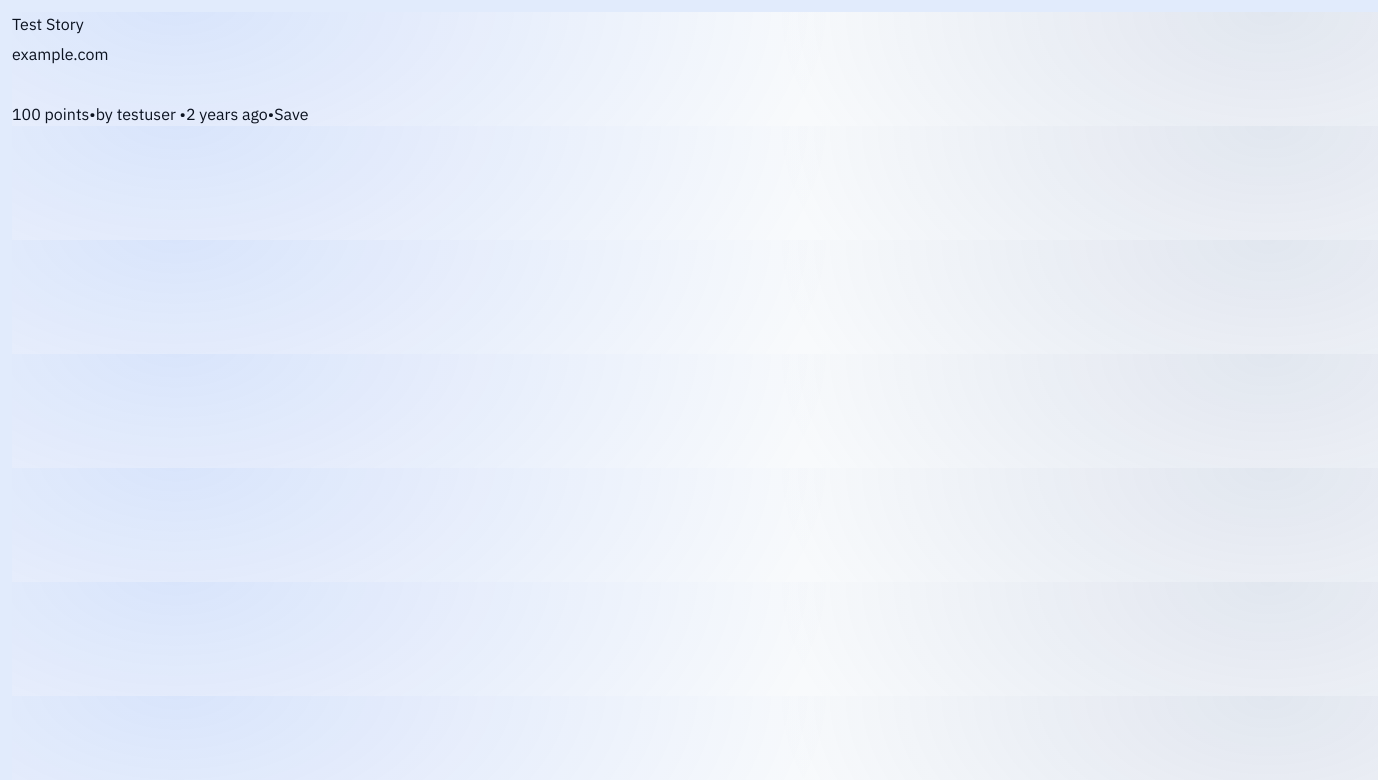
SidebarStorySummaryComponent › template rendering › should render and toggle save control for story summaries
The image size is (1378, 780).
Click the button with class "bookmark-btn". click: (291, 114)
box: [274,102,308,126]
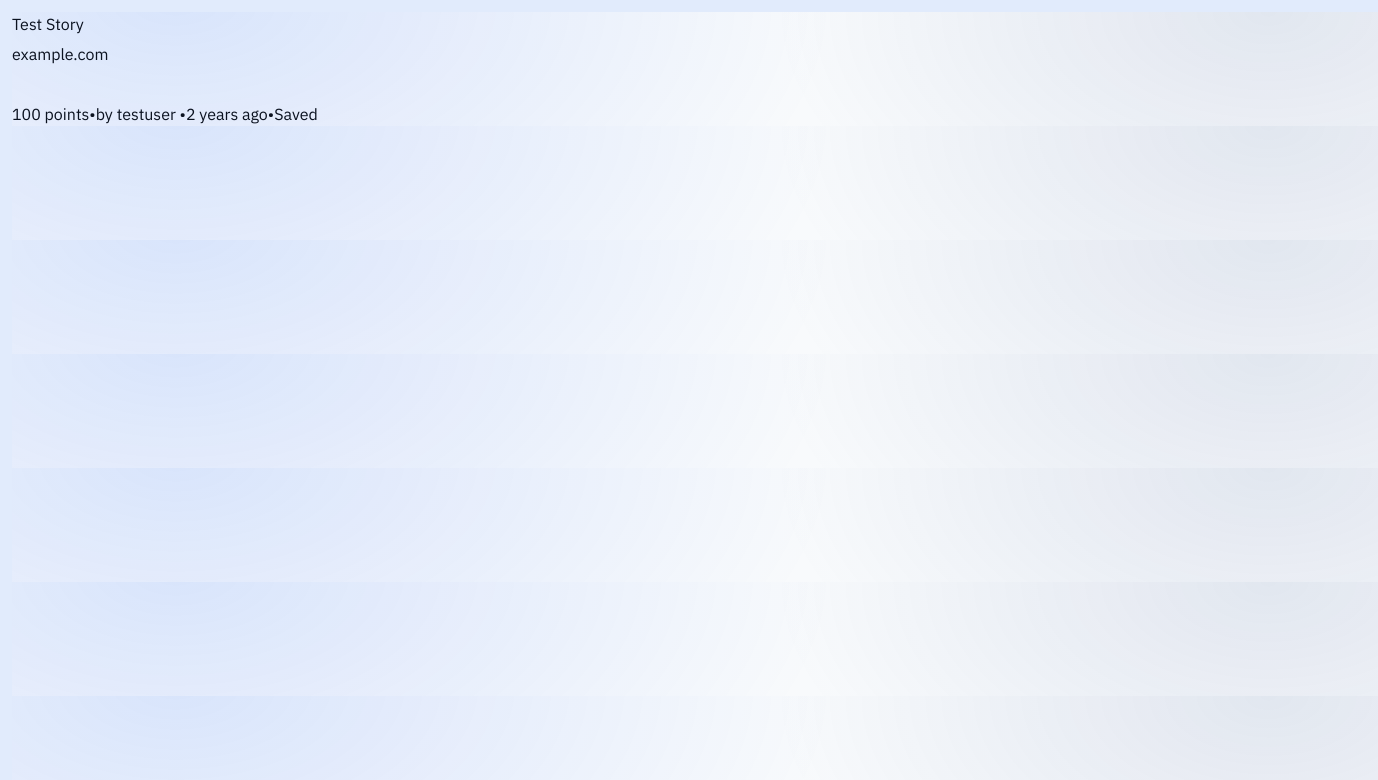
expect the button with class "bookmark-btn" reads "Saved": met, box [274,102,318,126]
